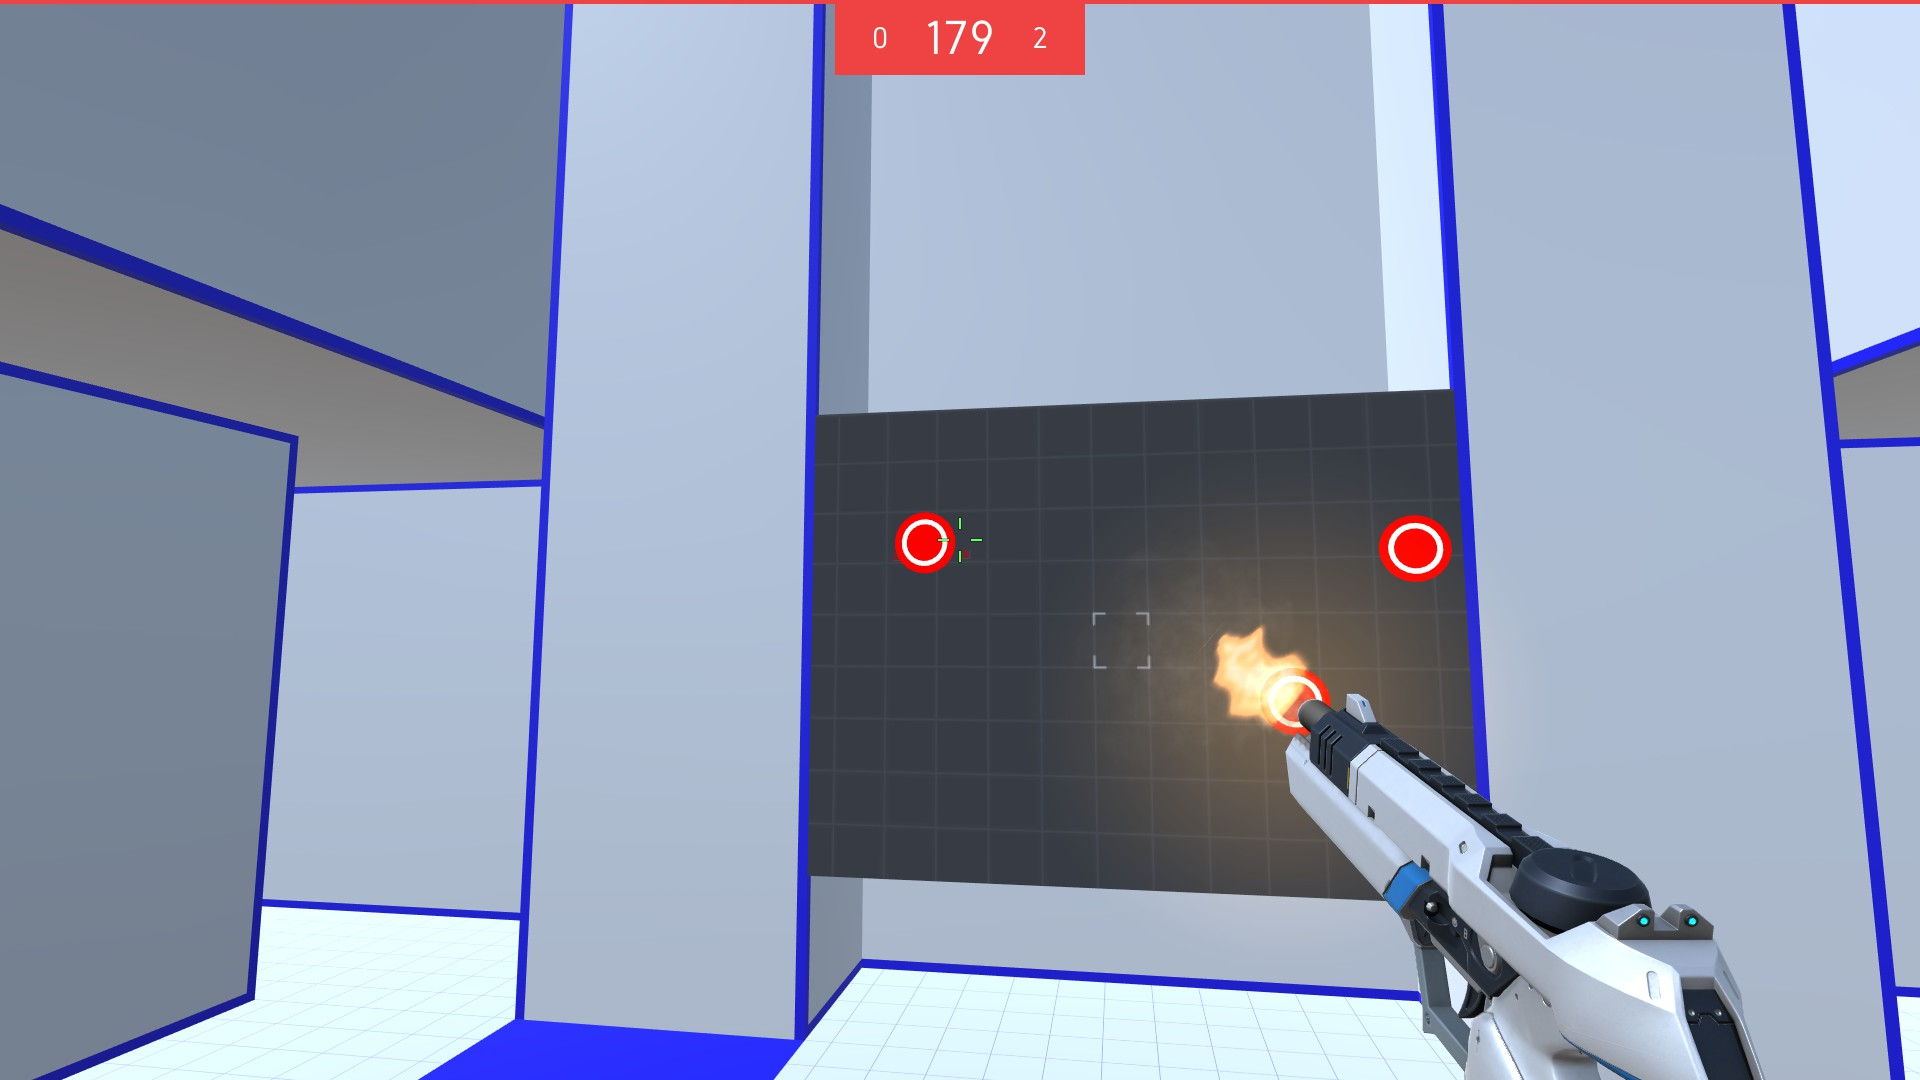target: (1375, 512, 1452, 585), (891, 512, 963, 575)
